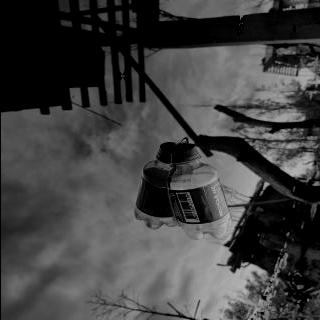bottle: (162, 140, 235, 242)
